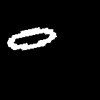chain: (7, 27, 56, 49)
